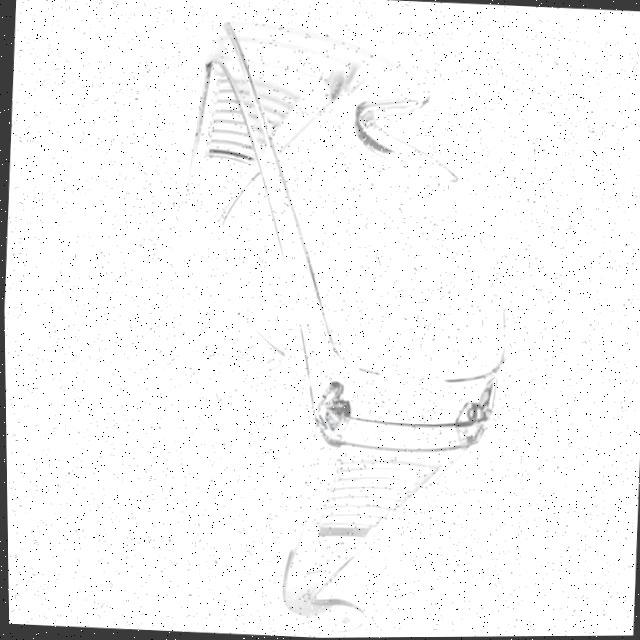goggles_on: (159, 7, 536, 639)
